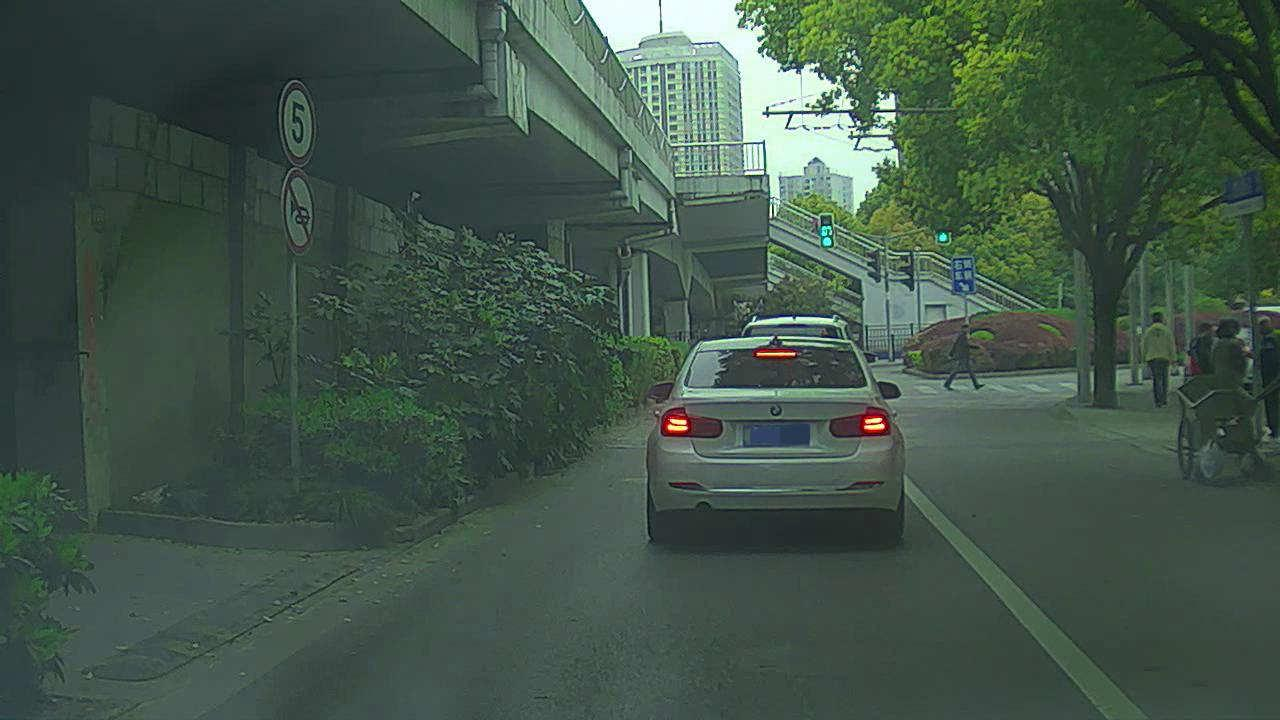traffic_light: (819, 213, 833, 248)
